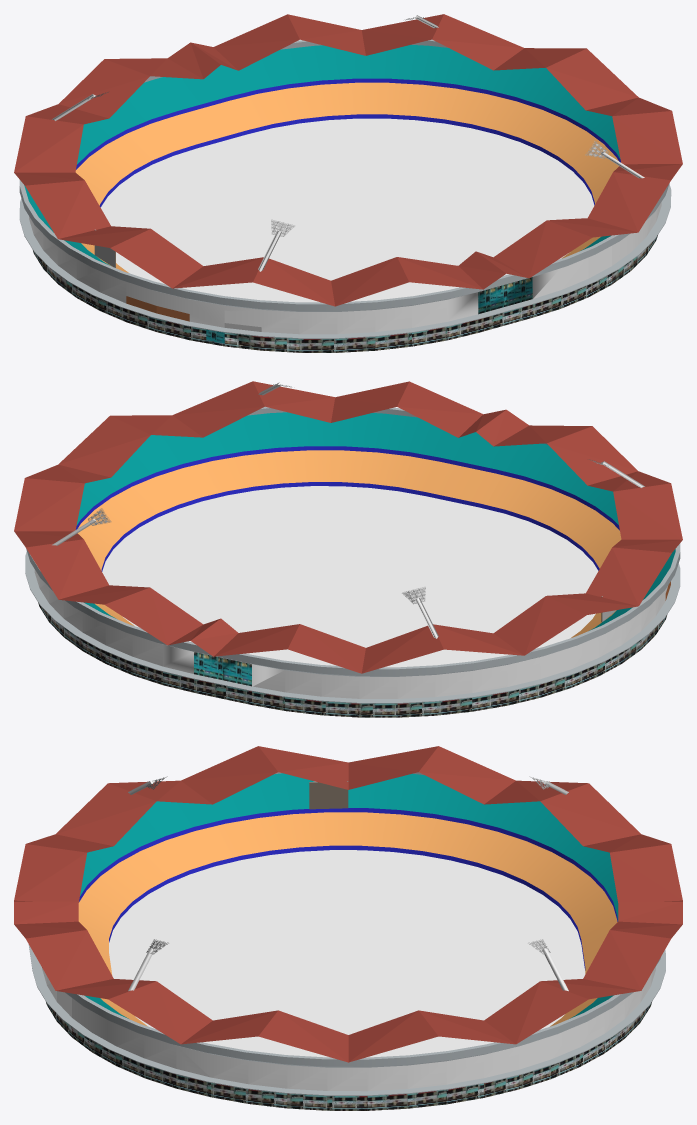
Rendered from sani_stadium.fbx.
3 views of the same model, one above another, from view 1: azimuth 30°, elevation 25°; view 2: azimuth 150°, elevation 25°; view 3: azimuth 270°, elevation 25° (orthographic). The views are drawn at different scales.
Parts seen in each view (by area): view 1: The_Gabba1; view 2: The_Gabba1; view 3: The_Gabba1.
Part boxes in pixels (x1,y1,x2,y2): The_Gabba1: (14,14,682,352); The_Gabba1: (14,381,682,717); The_Gabba1: (14,746,682,1110).
Size of the model in its own units: 22004 by 3747 by 20731.
